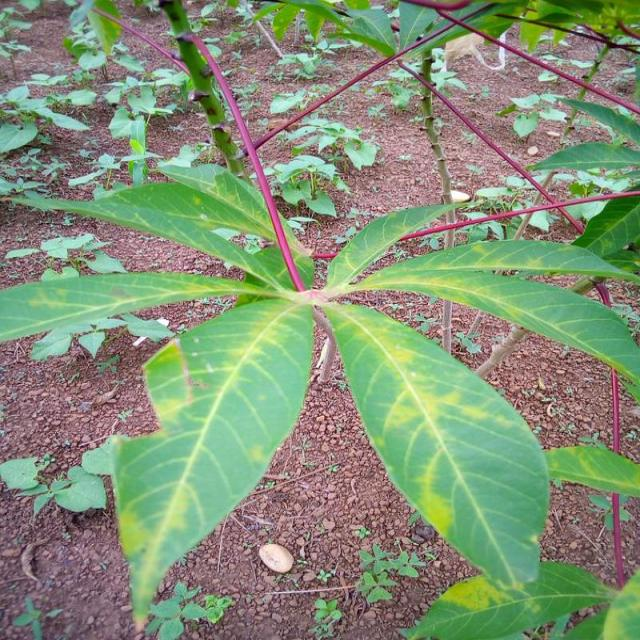Mosaico: (94, 176, 546, 551)
